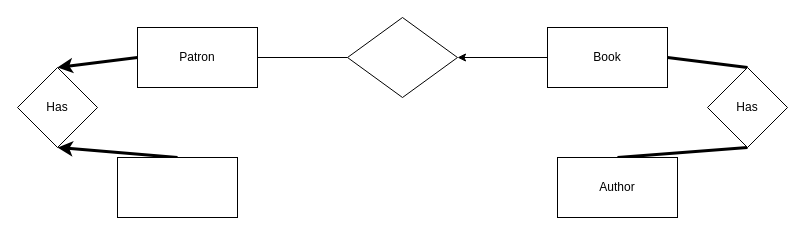
Some shapes in this 805 by 235 pixel diagram are drawn without their labels. Here are the shapes that lost their labels. From the top down, the centre of each, then its label:
At point (402, 57): "Check Out".
At point (177, 187): "Library Card".
